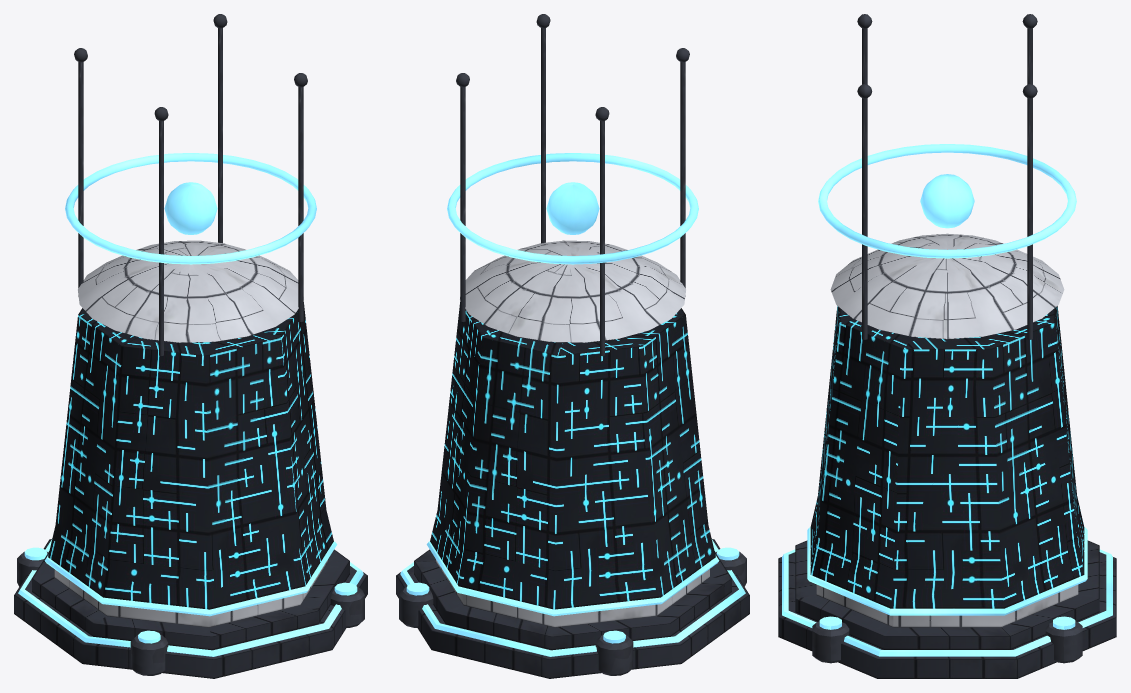
The model's file is sf_silencehall.glb.
3 views of the same model, side by side, from view 1: azimuth 30°, elevation 25°; view 2: azimuth 150°, elevation 25°; view 3: azimuth 270°, elevation 25° (orthographic). The views are drawn at different scales.
Parts seen in each view (by area): view 1: Base, Ring, Turret; view 2: Base, Ring, Turret; view 3: Base, Ring, Turret.
Part boxes in pixels (box(x1,y1,x2,y2)): Base: box(14, 14, 367, 678); Ring: box(65, 153, 316, 264); Turret: box(164, 182, 217, 234); Base: box(396, 14, 749, 678); Ring: box(447, 153, 698, 264); Turret: box(546, 182, 599, 234); Base: box(778, 14, 1116, 678); Ring: box(818, 144, 1076, 258); Turret: box(920, 174, 974, 228).
Bounding box in the file's own units: 0.8684 × 1.58 × 0.8684.
5 materials, 5 textured.
